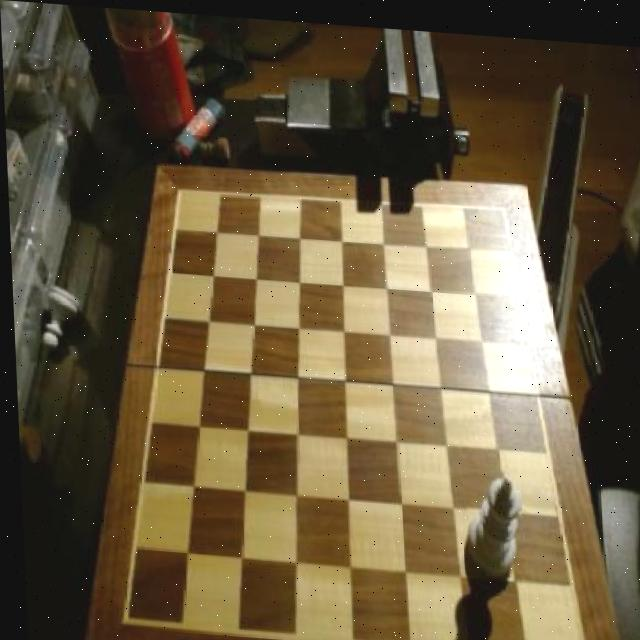white-bishop: (458, 461, 519, 575)
